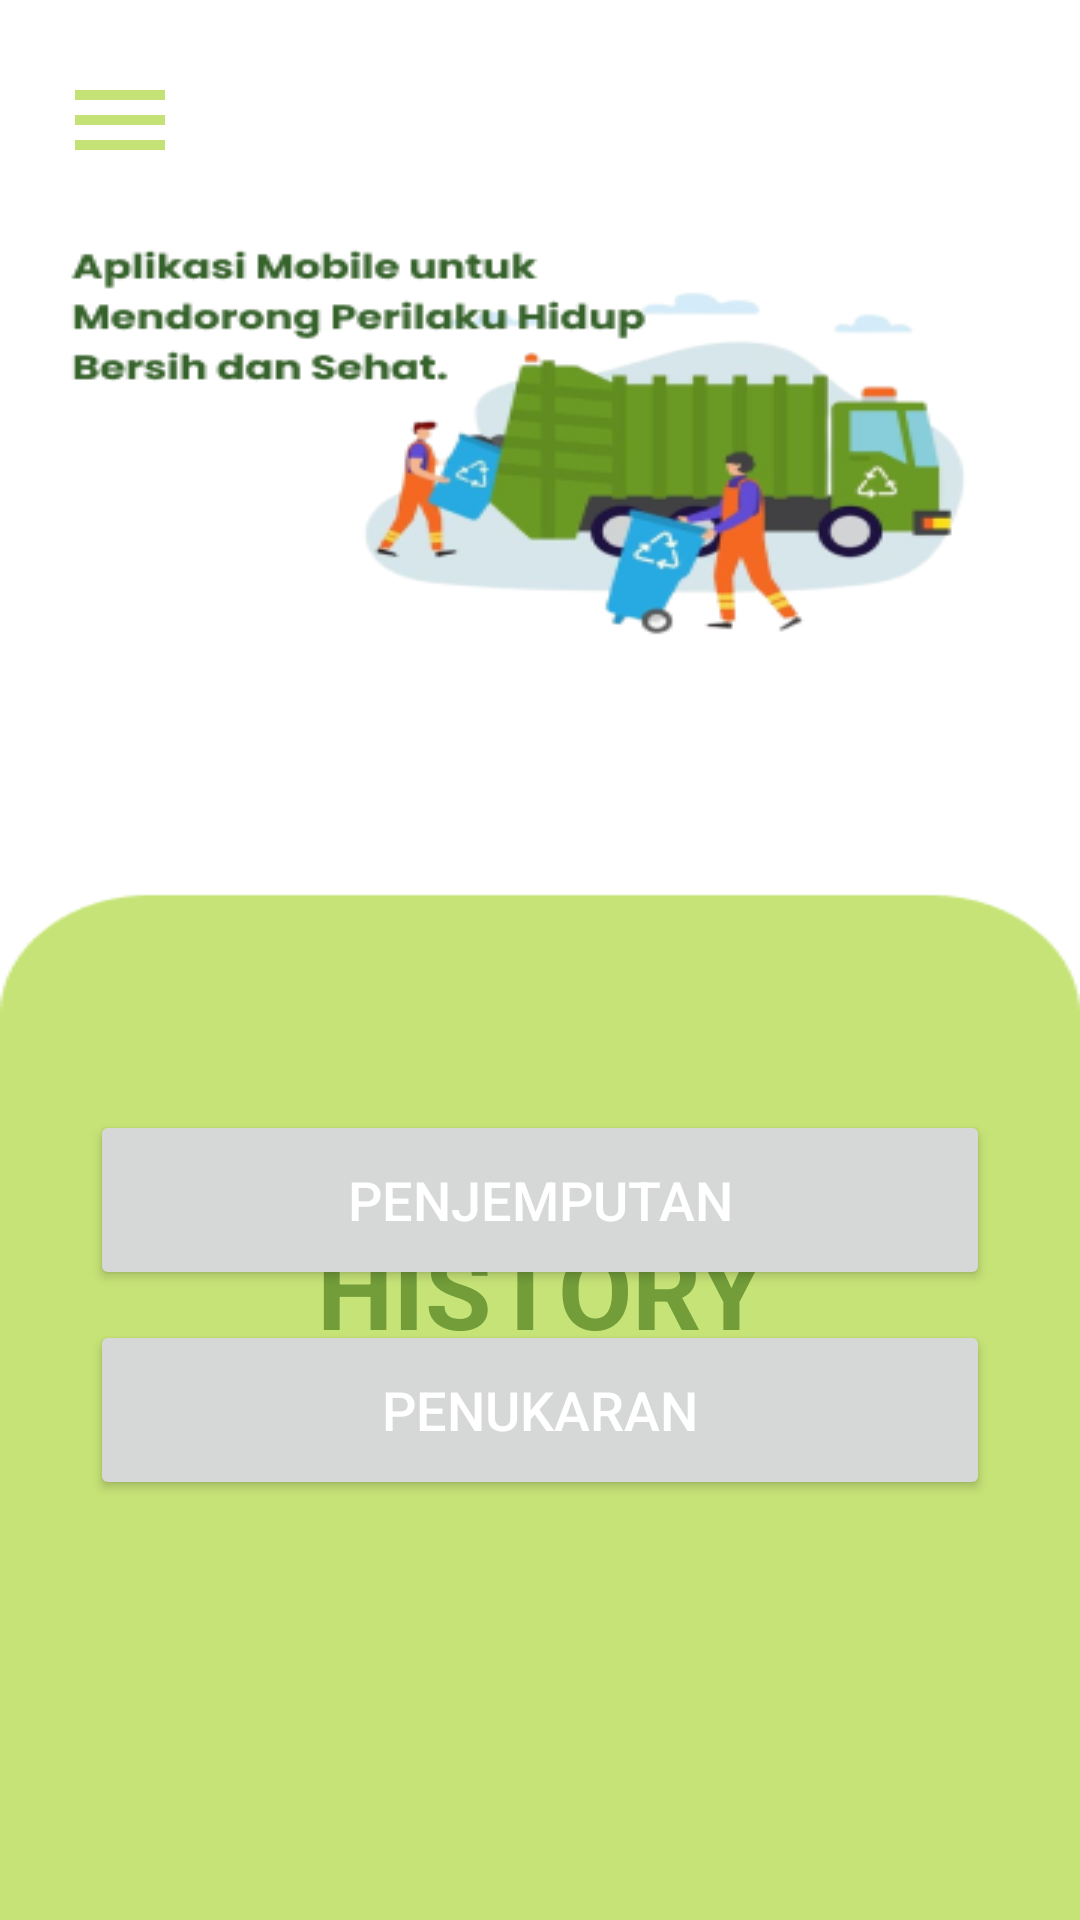

Icons on this 1080×1920 Android screen, each with the point to tap as point (x, y):
menu: point (120, 120)
